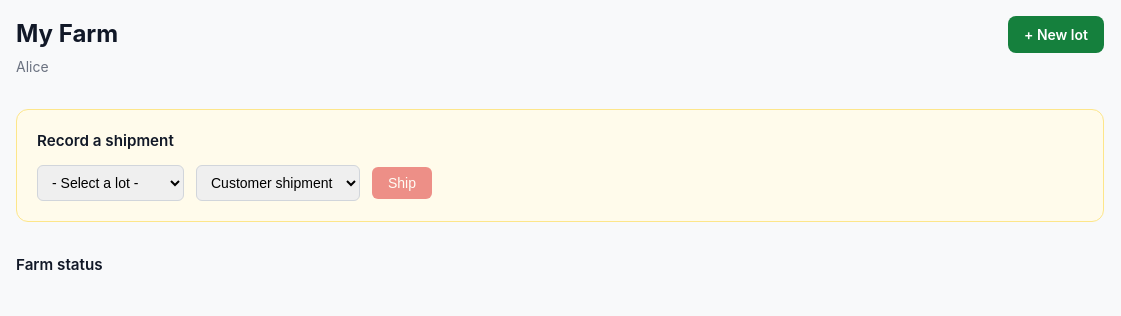
it: FarmView › shows a success message after recording a shipment
Note: Select a lot and trigger shipment
Select "ABC123 (stored)" in the 1st dropdown: point(110, 183) top-left (37, 165), bottom-right (184, 201)
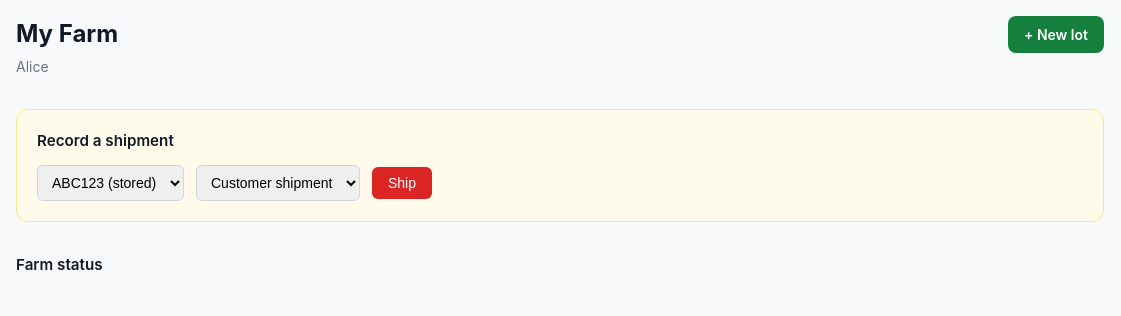
Click the button with class "btn-danger": point(402, 183) top-left (372, 167), bottom-right (432, 199)
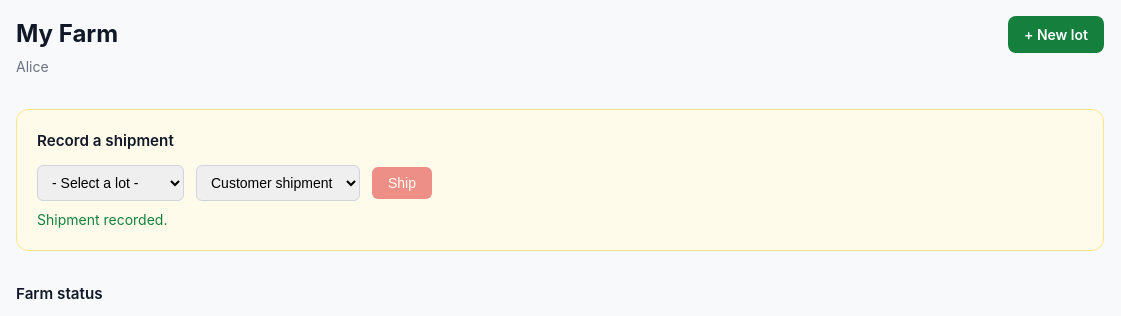
Check: the text "Shipment recorded." is shown, box top-left (37, 211), bottom-right (167, 228)
